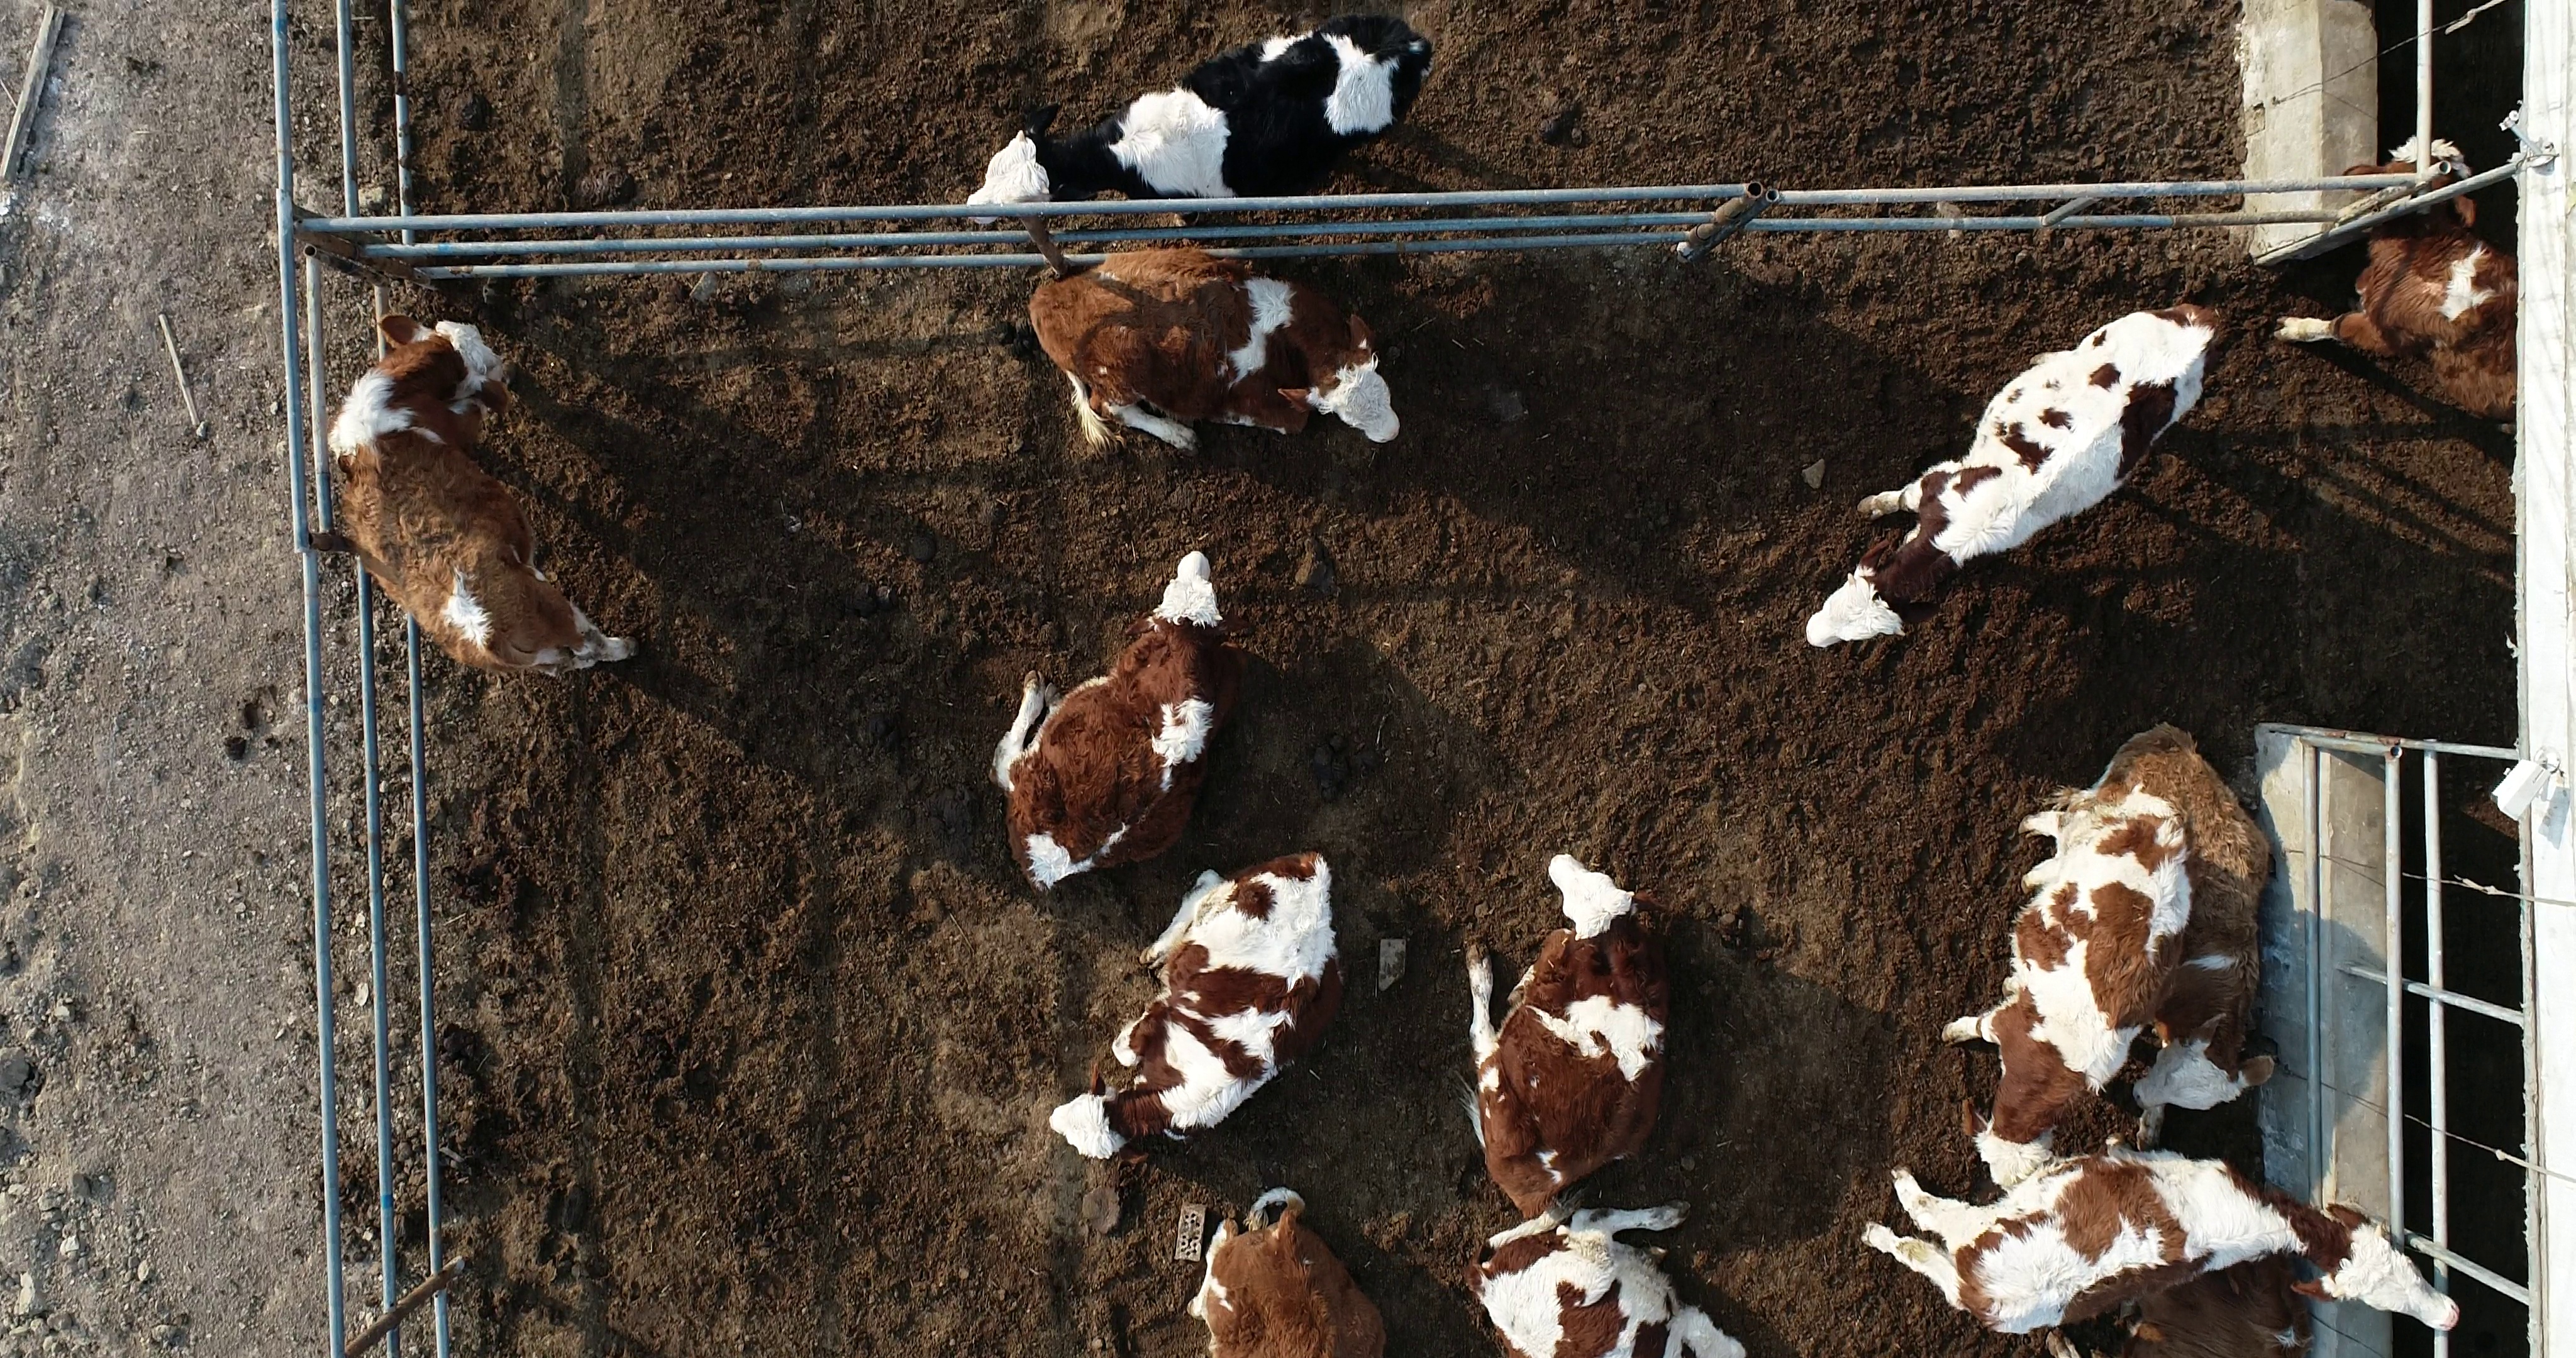cattle: (1799, 300, 2228, 656), (320, 307, 647, 685), (954, 12, 1445, 242), (1024, 242, 1406, 465)
